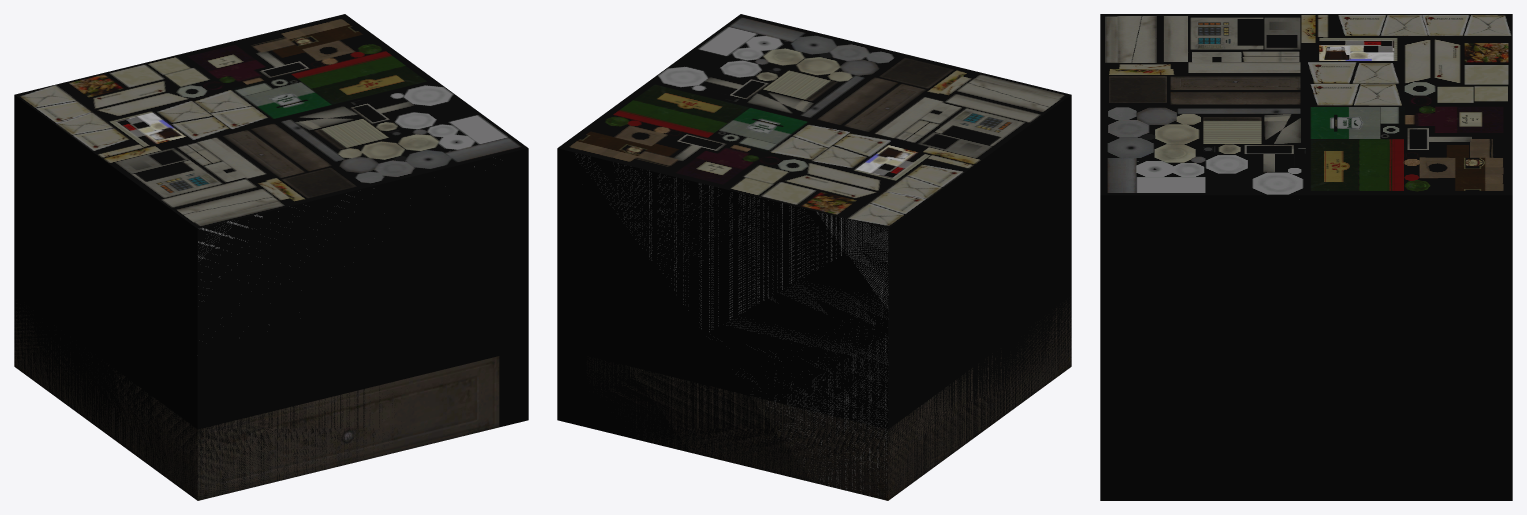
The model's file is cash_register.DAE.
The picture shows the model from 3 angles, left to right: view 1: azimuth 30°, elevation 25°; view 2: azimuth 150°, elevation 25°; view 3: azimuth 270°, elevation 25°; orthographic projection. The views are drawn at different scales.
Parts seen in each view (by area): view 1: colbox-1, cash_register100; view 2: colbox-1, cash_register100, bounds; view 3: colbox-1.
Boxes of the visible parts, x1,y1,x2,y2 form: colbox-1: [14, 14, 528, 499]; cash_register100: [14, 299, 499, 500]; colbox-1: [557, 14, 1071, 500]; cash_register100: [587, 301, 1071, 500]; bounds: [576, 154, 888, 495]; colbox-1: [1100, 14, 1512, 500].
Size of the model in its own units: 47.59 by 45.71 by 37.4.
